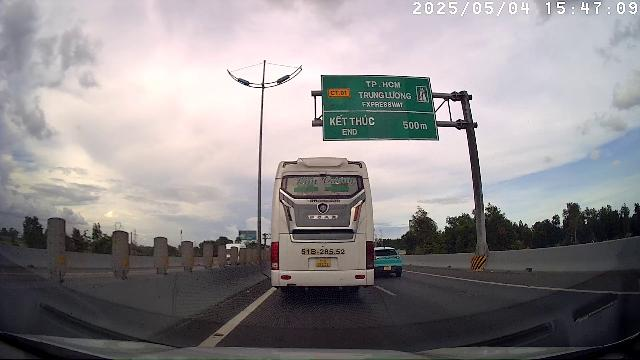438-ket-thuc-duong-cao-toc: (416, 85, 430, 104)
